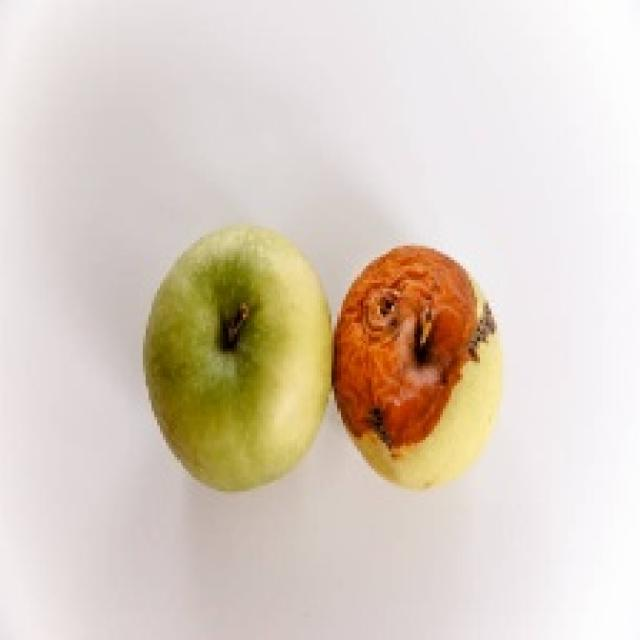rotten_apple: (337, 249, 501, 486)
